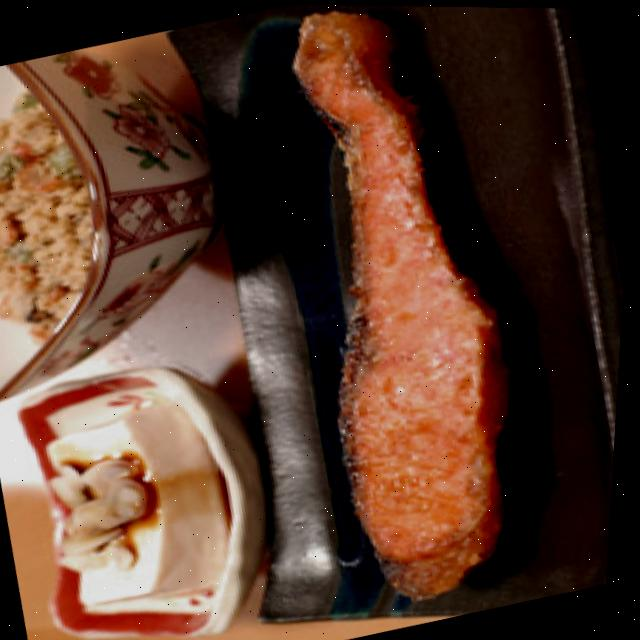熟制海鲜: (194, 3, 584, 640)
